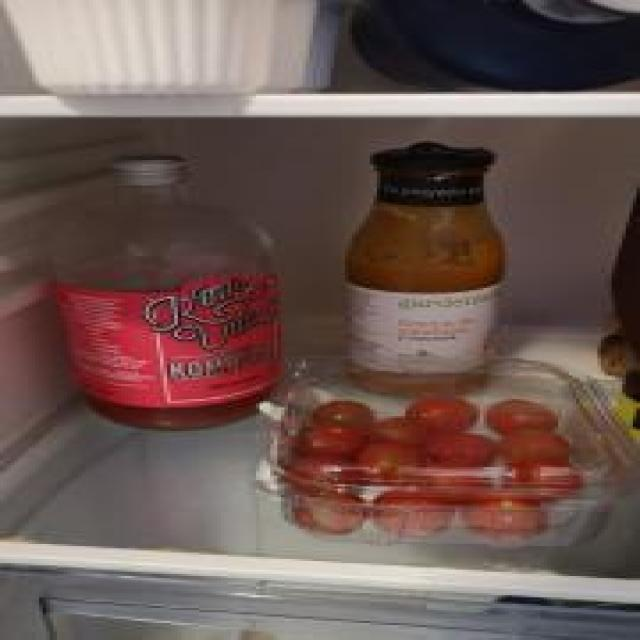tomato: (462, 494, 551, 541), (370, 488, 456, 536), (502, 462, 580, 502), (288, 492, 370, 530), (488, 432, 574, 466), (289, 426, 372, 458), (284, 454, 360, 488), (488, 400, 556, 434), (408, 398, 476, 430), (418, 436, 492, 464), (360, 448, 412, 486), (416, 464, 476, 496), (318, 399, 372, 431), (373, 417, 427, 445)
